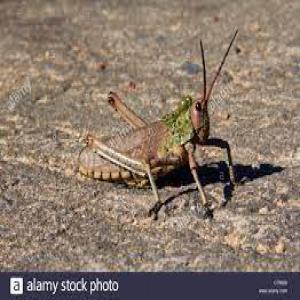locust: (70, 57, 230, 218)
